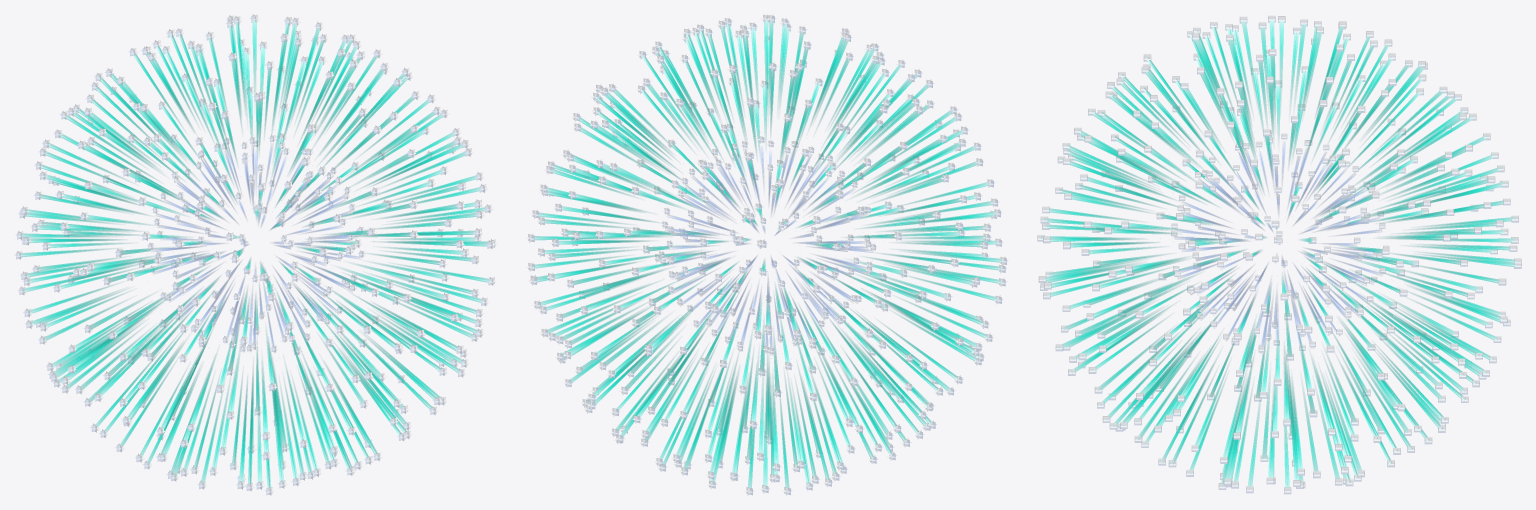
Rendered from fw_peony_teal_silver_a.glb.
3 renders of one model, left to right at view 1: azimuth 30°, elevation 25°; view 2: azimuth 150°, elevation 25°; view 3: azimuth 270°, elevation 25°, orthographic.
Parts seen in each view (by area): view 1: spire; view 2: spire; view 3: spire.
Part boxes in pixels (left/top/right/bottom): spire: left=14, top=14, right=497, bottom=495; spire: left=526, top=14, right=1008, bottom=495; spire: left=1037, top=15, right=1521, bottom=494.
Bounding box in the file's own units: 20.18 × 20.19 × 20.29.
Materials: 3 (3 with a texture image).
